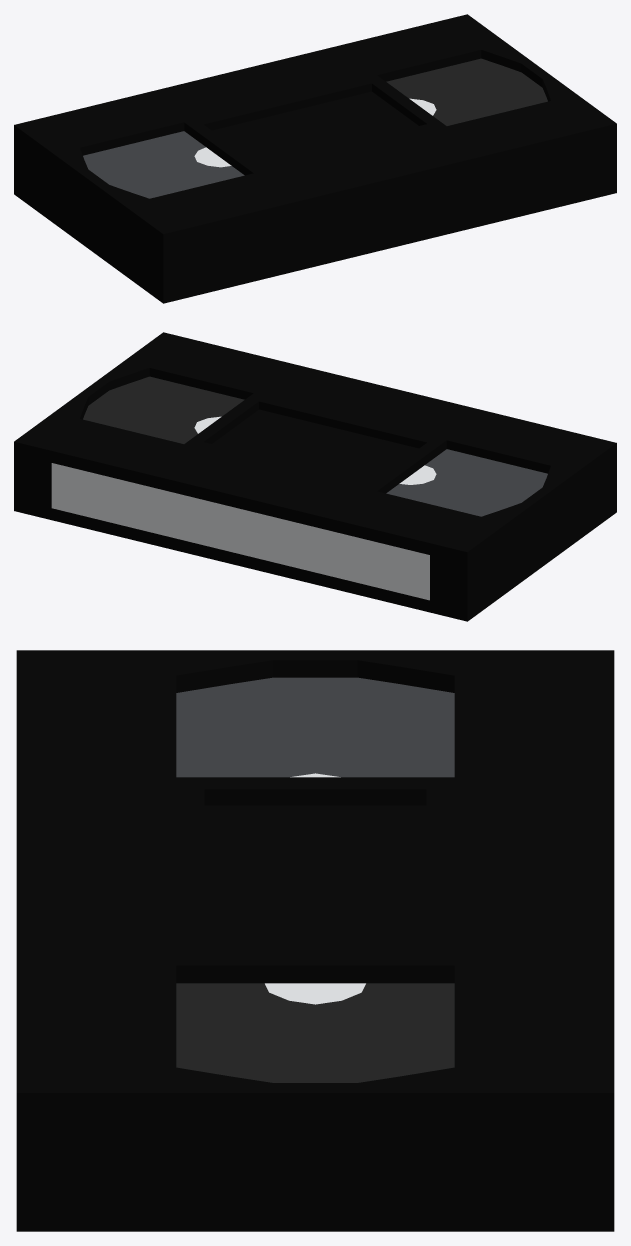
File: VHS_tape.fbx
3 views of the same model, one above another, from view 1: azimuth 30°, elevation 25°; view 2: azimuth 150°, elevation 25°; view 3: azimuth 270°, elevation 25° (orthographic). The views are drawn at different scales.
Visible parts, largest first — view 1: Plane.176; view 2: Plane.176; view 3: Plane.176.
Boxes of the visible parts, left/top/right/bottom form: Plane.176: left=14, top=14, right=616, bottom=303; Plane.176: left=14, top=332, right=616, bottom=621; Plane.176: left=16, top=650, right=614, bottom=1231.
Size of the model in its own units: 0.4707 by 0.2686 by 0.0688.
